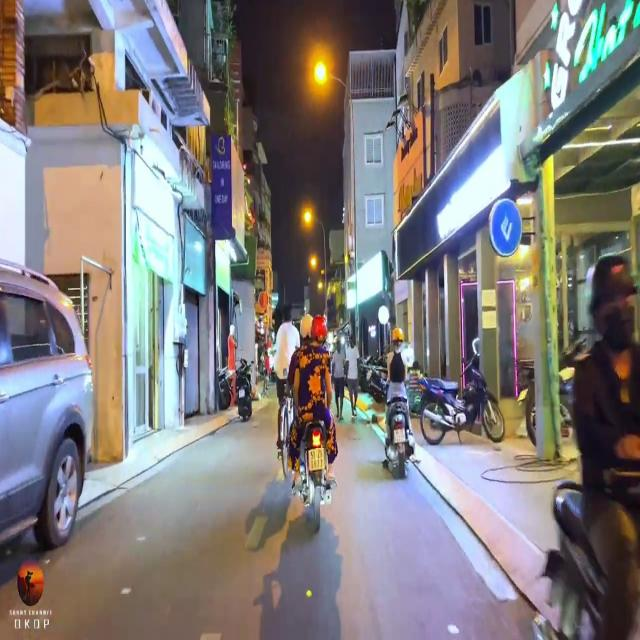bien_trang: (306, 445, 327, 475)
